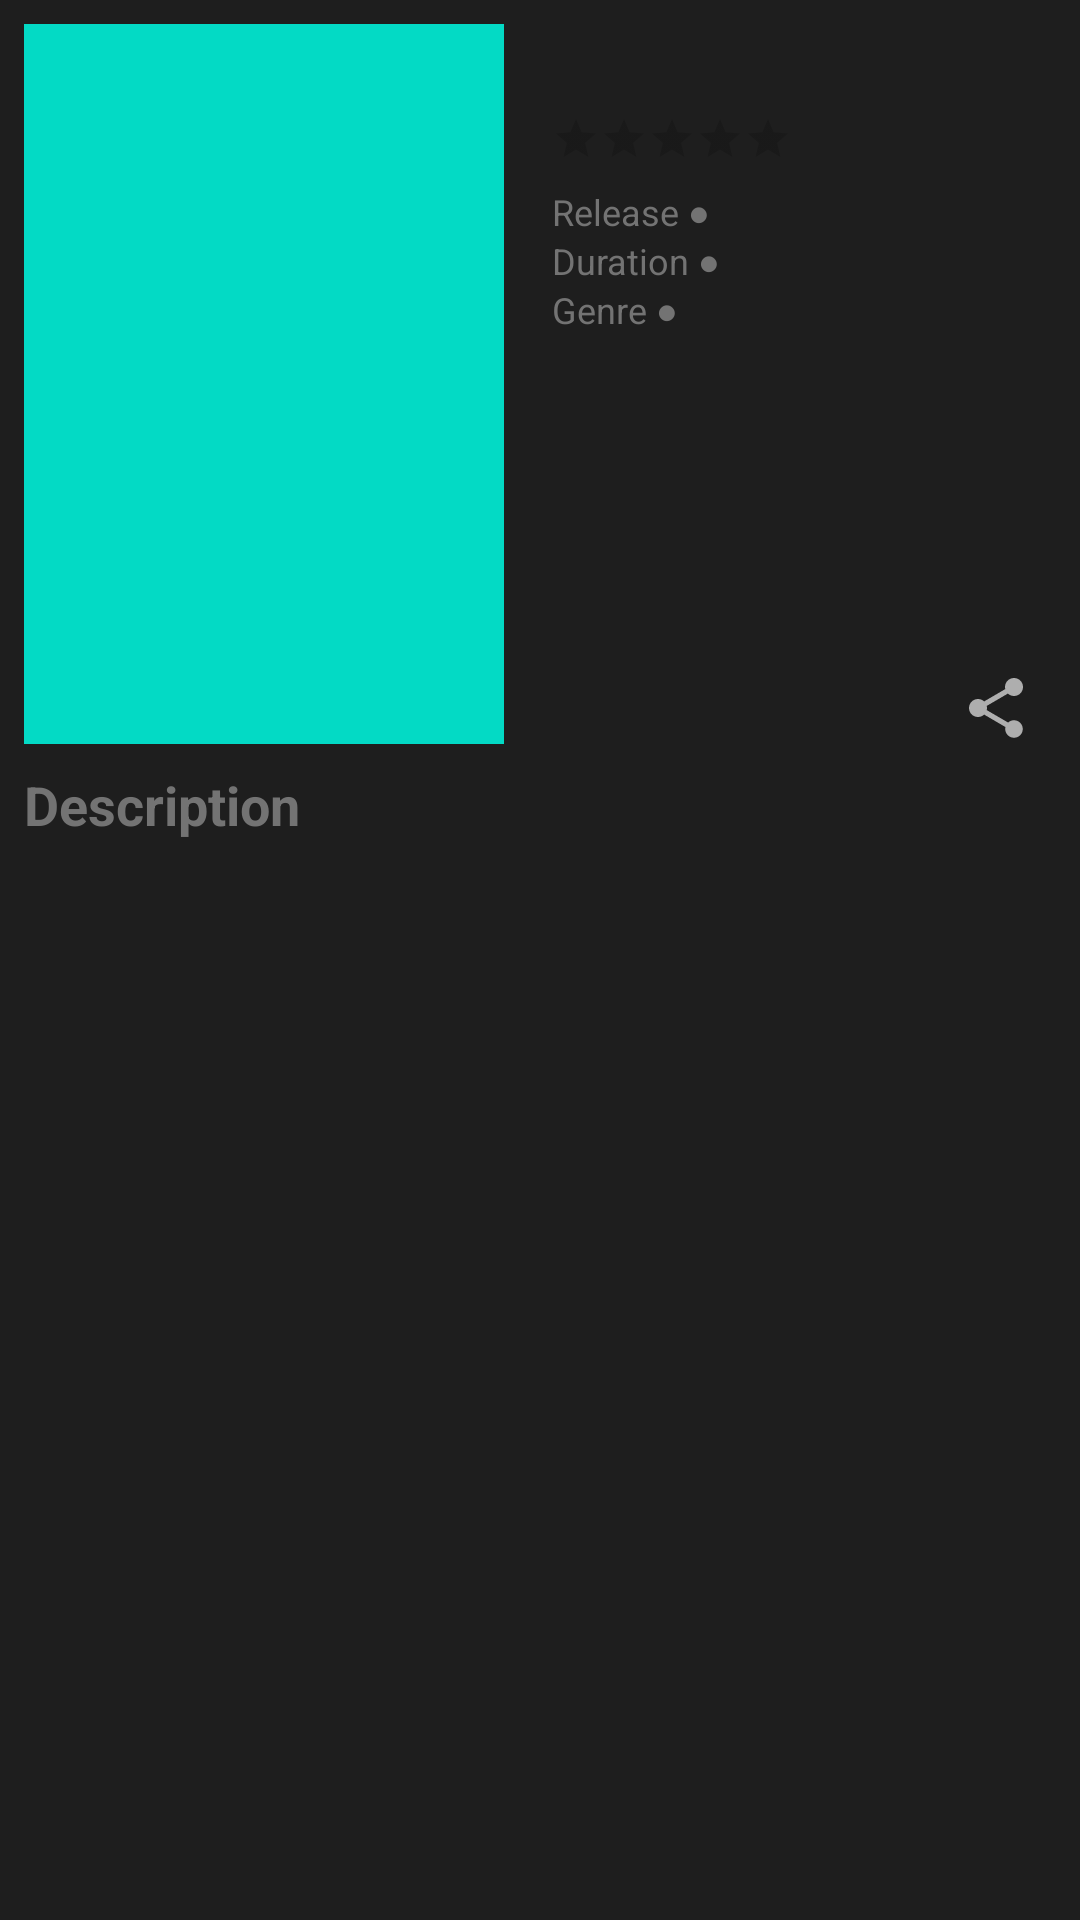

Named icons in this screenshot (1080px x 1920px) and their bounding boxes, bbox(x1, y1, x2, y2):
share: bbox(969, 678, 1023, 738)
